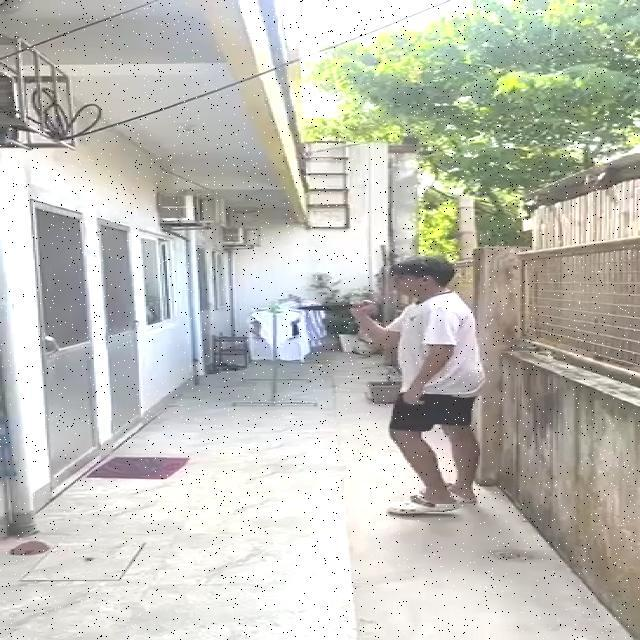knife: (293, 301, 373, 314)
non-violence: (293, 255, 492, 522)
